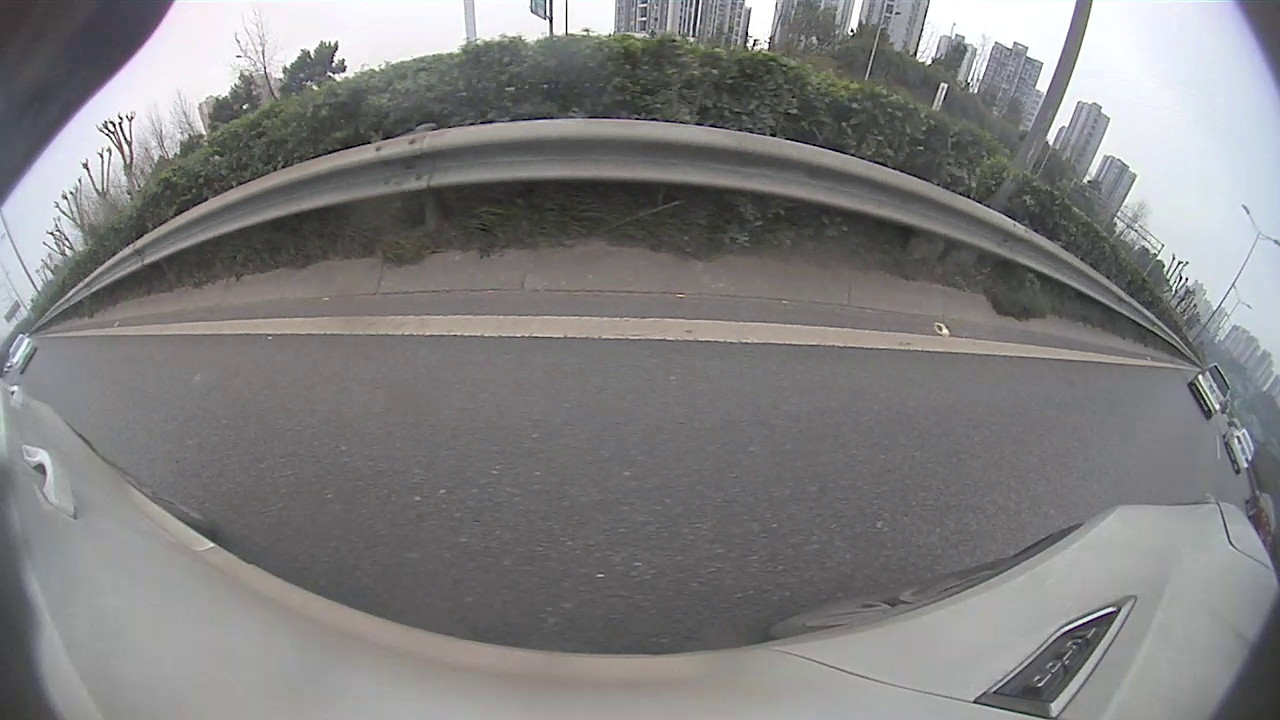car: (1188, 363, 1230, 419), (1222, 429, 1255, 474), (6, 336, 35, 372)
